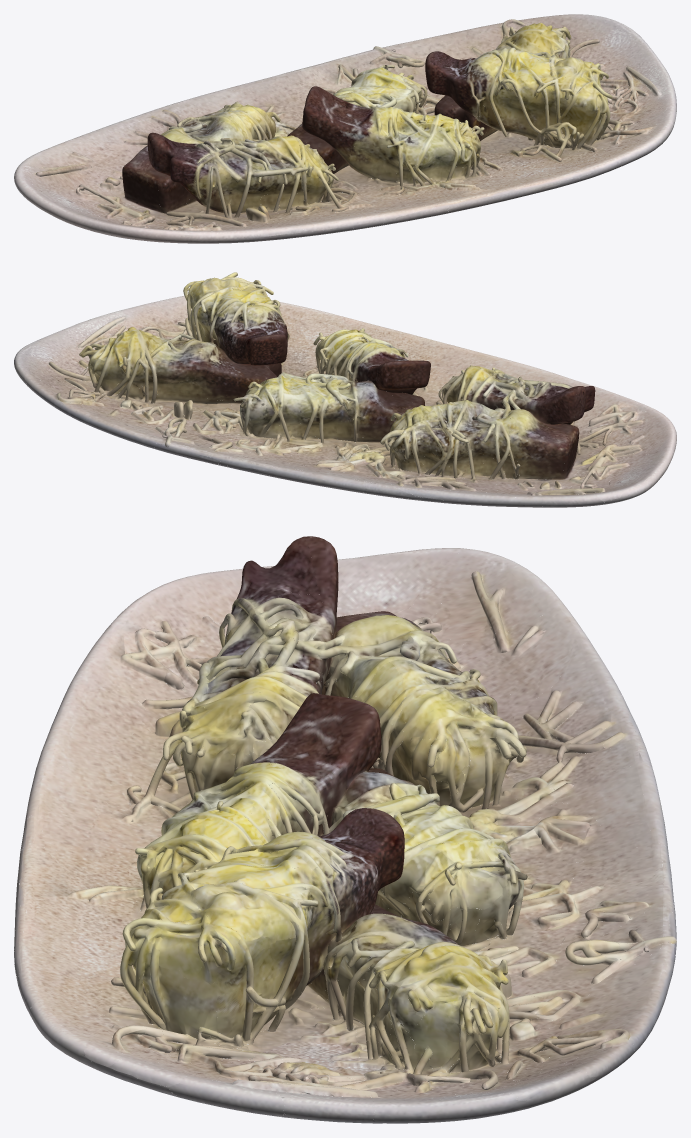
File: mulatka.glb
The picture shows the model from 3 angles, top to bottom: view 1: azimuth 30°, elevation 25°; view 2: azimuth 150°, elevation 25°; view 3: azimuth 270°, elevation 25°; orthographic projection. The views are drawn at different scales.
Parts seen in each view (by area): view 1: mulatka; view 2: mulatka; view 3: mulatka.
Boxes of the visible parts, x1=… form: mulatka: x1=14, y1=14, x2=676, y2=243; mulatka: x1=14, y1=272, x2=676, y2=507; mulatka: x1=14, y1=536, x2=676, y2=1123.
Bounding box in the file's own units: 0.9796 × 0.1445 × 0.4933.
Materials: 1 (1 with a texture image).
